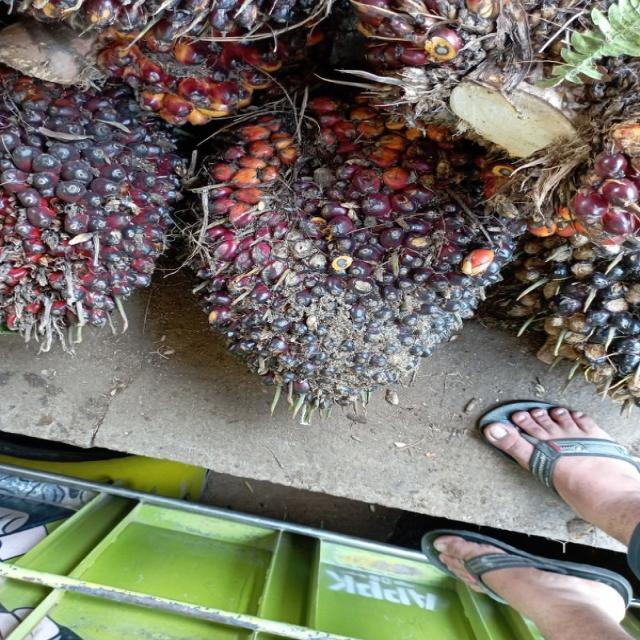fraksi 1: (167, 76, 538, 442)
